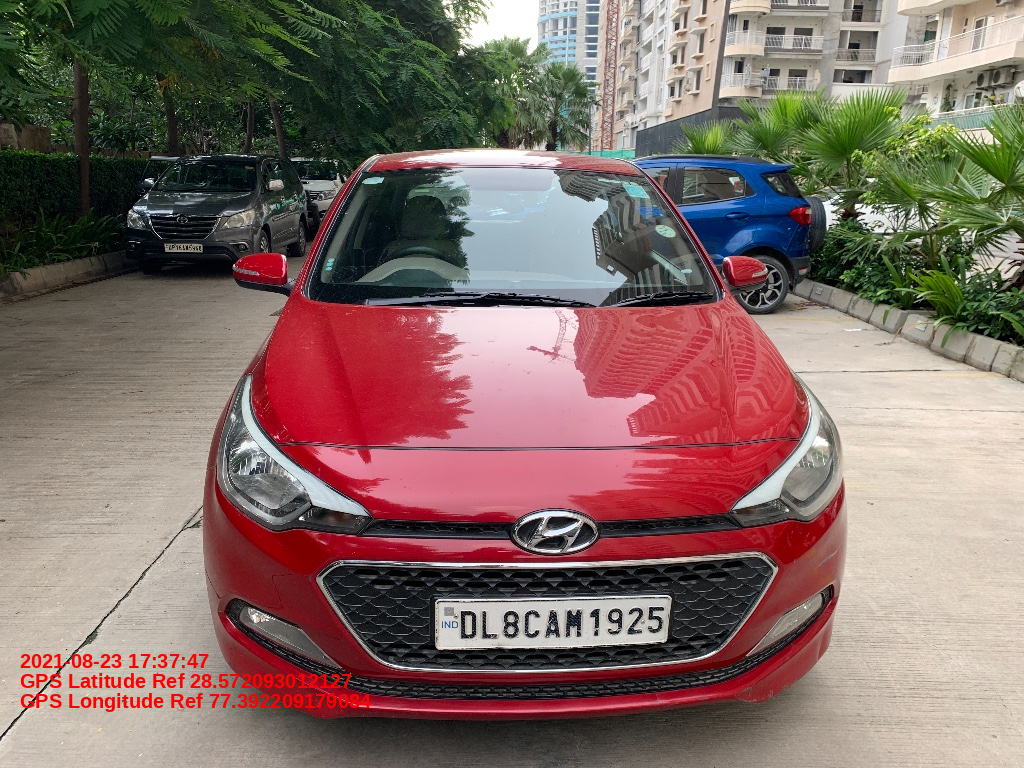Pressed: (808, 618, 835, 664)
